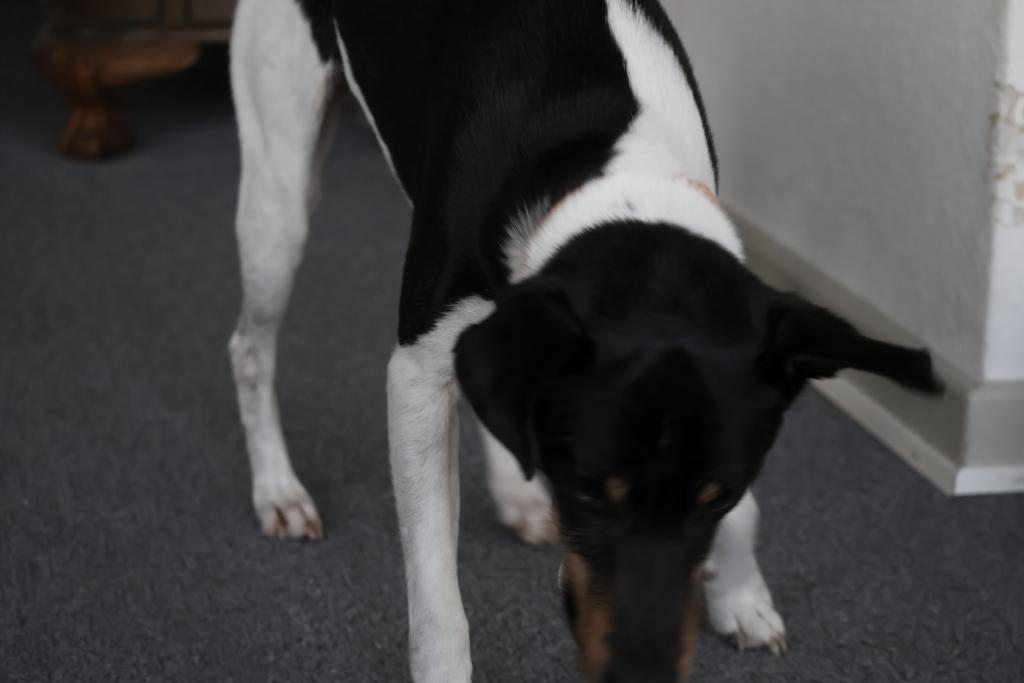Dog: (207, 0, 962, 683)
